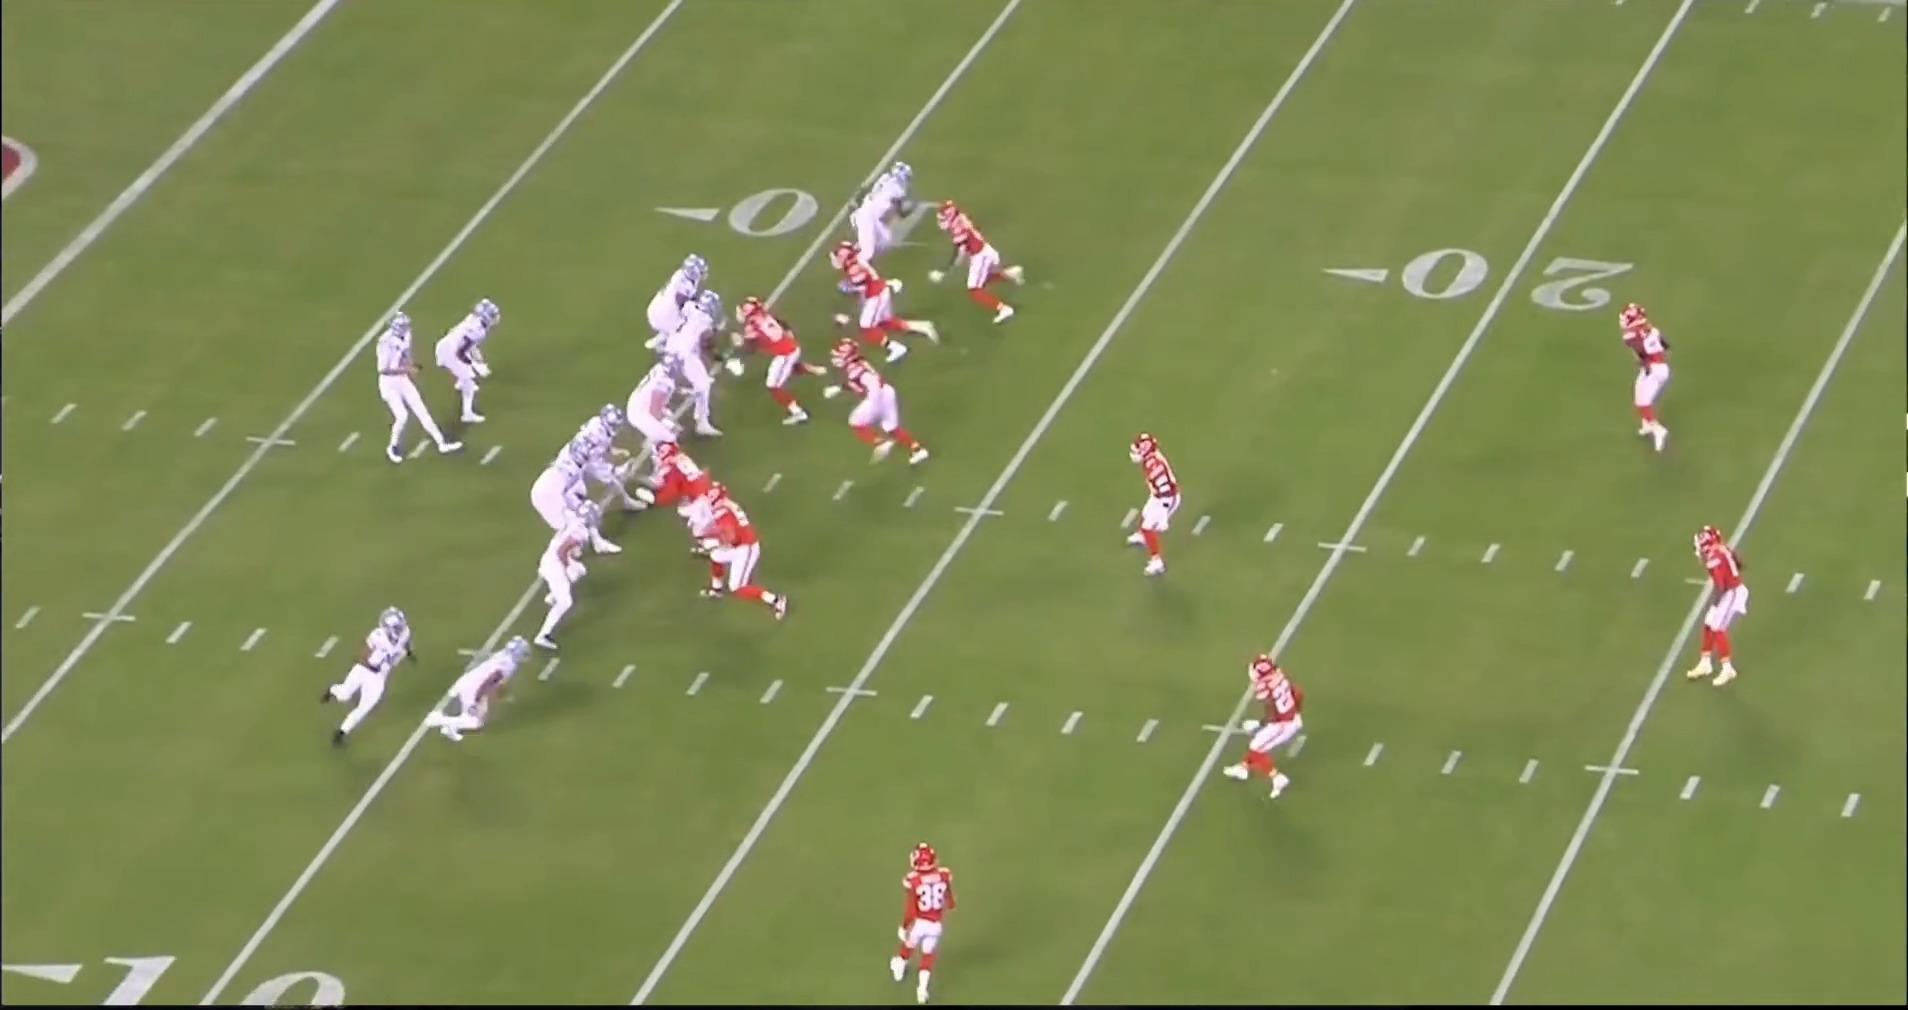defense: (637, 436, 765, 563), (818, 341, 934, 472), (729, 297, 842, 432), (689, 482, 795, 624), (823, 240, 940, 366), (1224, 653, 1311, 802), (926, 199, 1026, 330), (1680, 520, 1752, 687), (890, 846, 963, 992), (1122, 429, 1192, 581), (1615, 303, 1678, 453)
oline: (527, 432, 607, 573), (671, 302, 737, 444), (639, 254, 715, 366), (625, 353, 693, 480), (578, 400, 636, 520)
qb: (370, 309, 469, 470)
skill: (324, 606, 424, 750), (432, 631, 538, 747), (538, 500, 611, 651), (830, 162, 919, 279), (430, 295, 506, 428)
